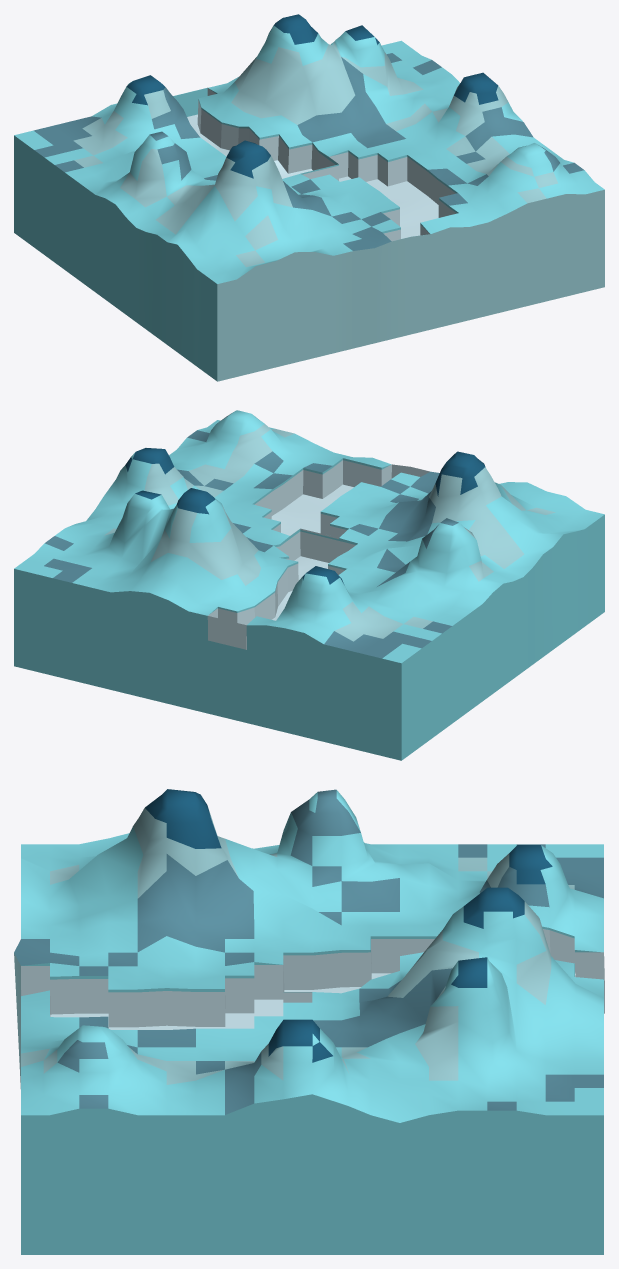
Rendered from LevelMenu3-1.fbx.
3 renders of one model, top to bottom at view 1: azimuth 30°, elevation 25°; view 2: azimuth 150°, elevation 25°; view 3: azimuth 270°, elevation 25°, orthographic. The views are drawn at different scales.
Visible parts, largest first — view 1: Box082; view 2: Box082; view 3: Box082.
Boxes of the visible parts, x1,y1,x2,y2 form: Box082: [14, 14, 604, 381]; Box082: [14, 410, 604, 760]; Box082: [14, 789, 604, 1254].
Size of the model in its own units: 291 by 135 by 269.
Materials: 5 (5 with a texture image).
